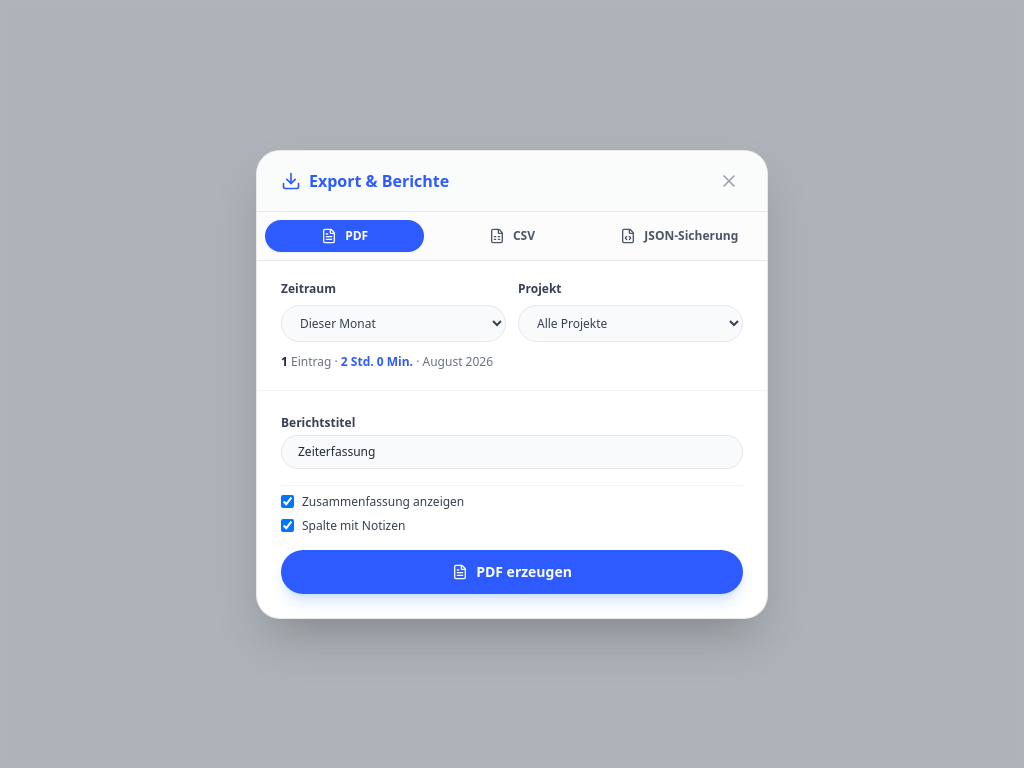
Test case: ExportModal result message › drops the message when another format is chosen
Click the button "CSV": (512, 236) [432,220,592,252]
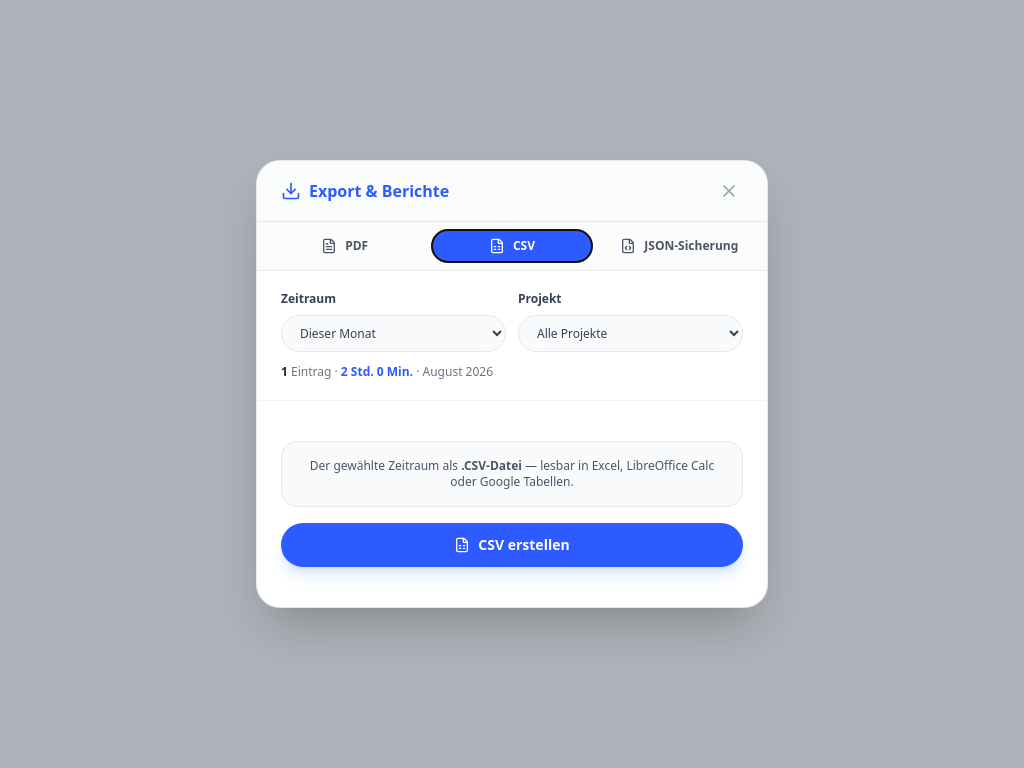
Click the button "CSV erstellen": (512, 545) [281,523,743,567]
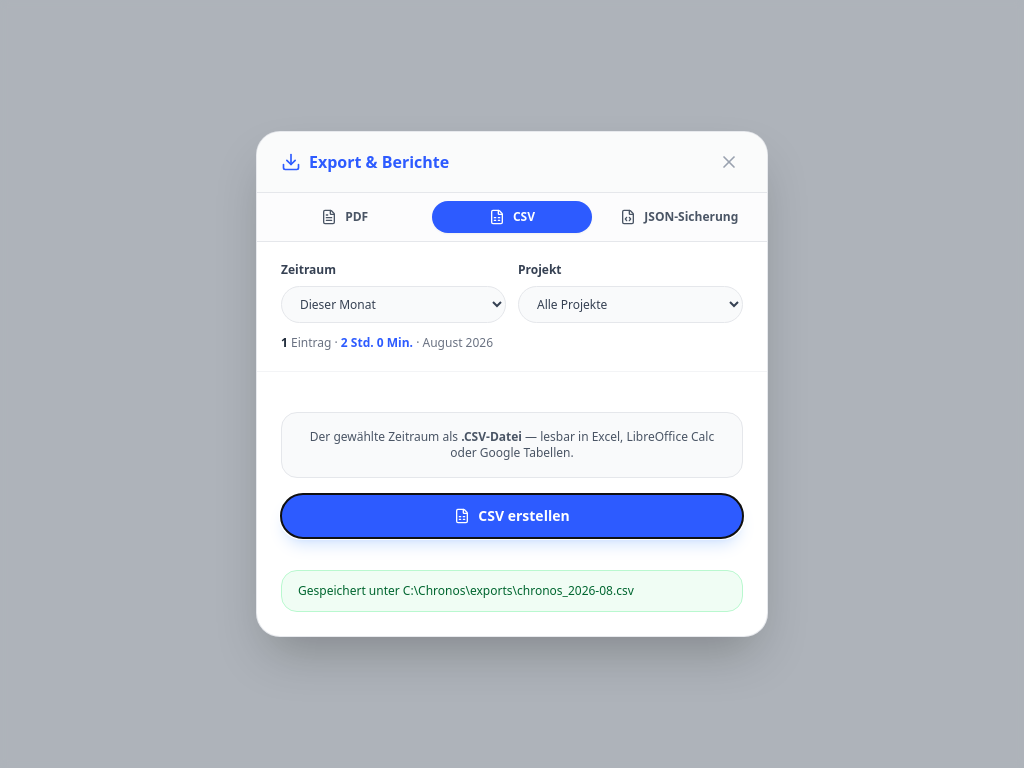
Result: the message "Gespeichert unter C:\\Chronos\\exports\\chronos_2026-08.csv" is shown at [281,570,743,612]
Click the button "PDF": (345, 217) [265,201,424,233]
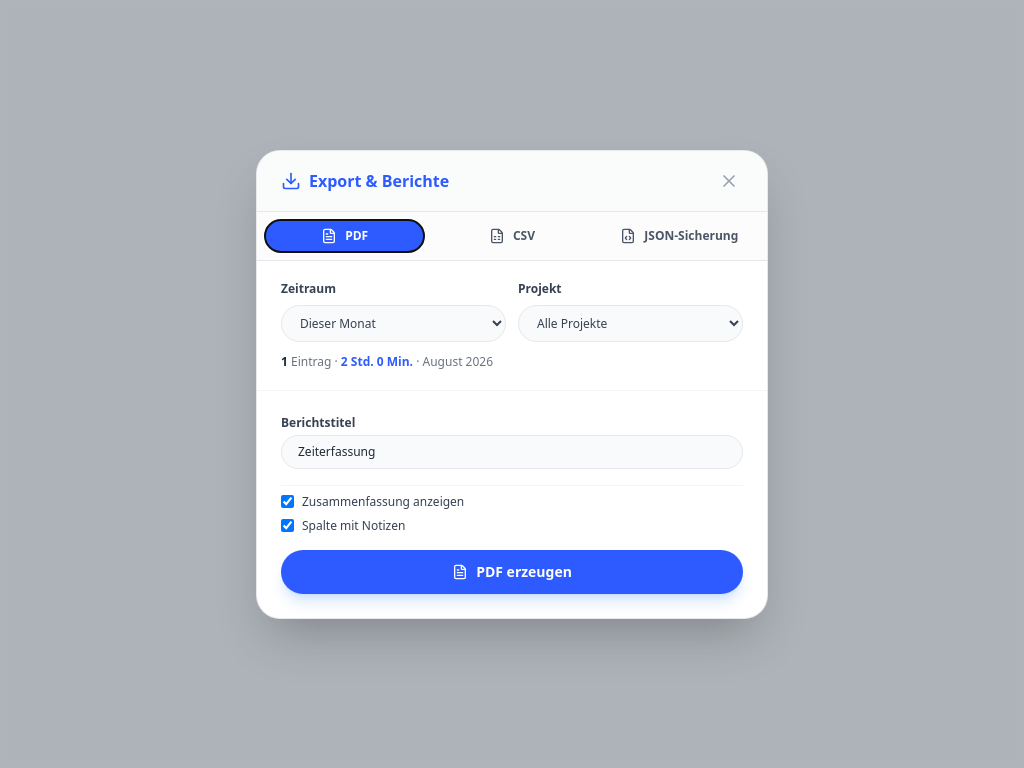
Result: the message "Gespeichert unter C:\\Chronos\\exports\\chronos_2026-08.csv" is gone
